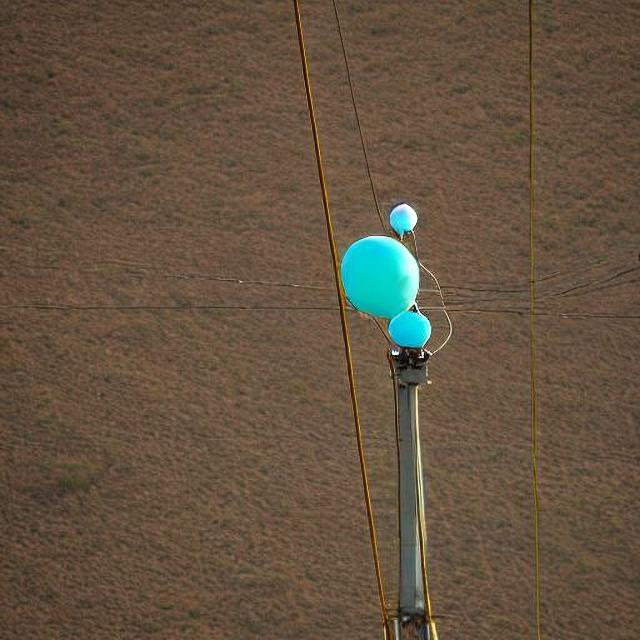balloon: (335, 228, 431, 349), (380, 194, 428, 236)
